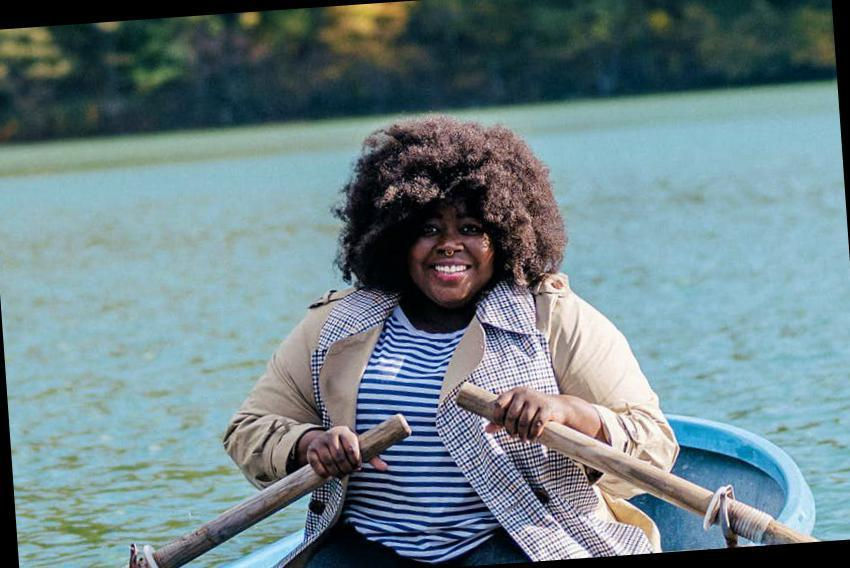Sober: (418, 205, 489, 298)
